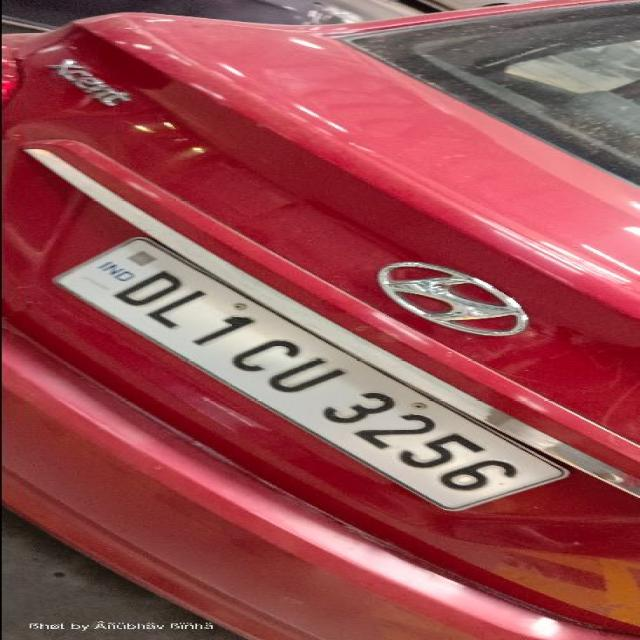license_plate: (4, 2, 636, 637), (49, 234, 570, 513)
